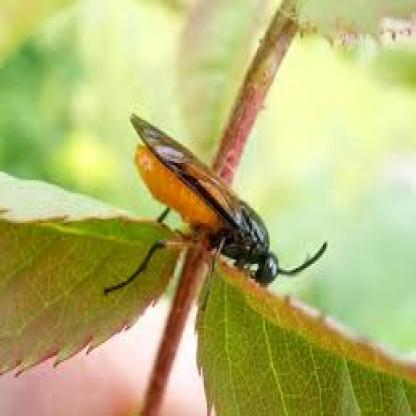sawfly: (100, 105, 334, 302)
